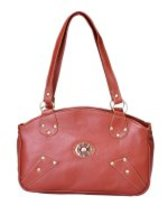bag: (6, 9, 154, 197)
